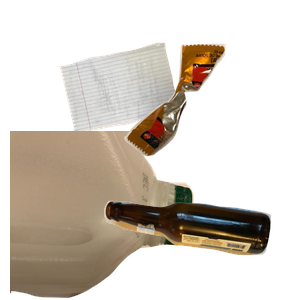glass: (101, 198, 300, 300)
paper: (56, 40, 229, 166)
plastic: (10, 131, 196, 300)
trash: (122, 41, 300, 190)
